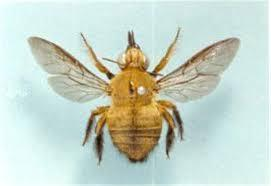Xylocopa: (25, 21, 246, 162)
